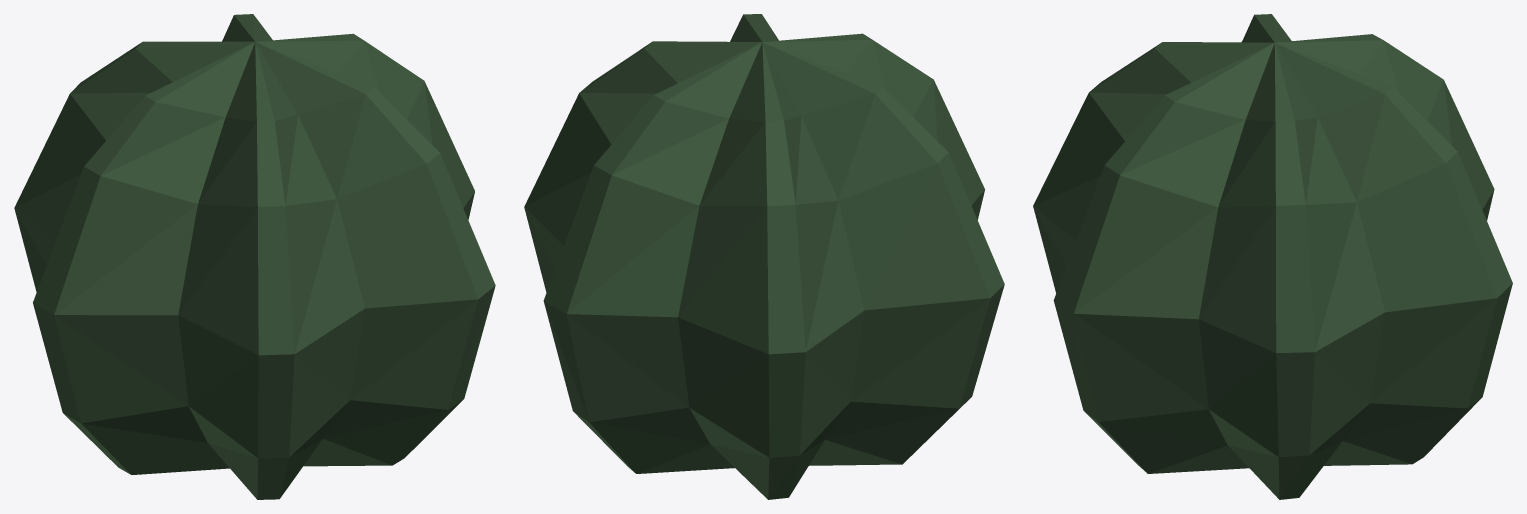
Rendered from Cactus04.fbx.
3 views of the same model, side by side, from view 1: azimuth 30°, elevation 25°; view 2: azimuth 150°, elevation 25°; view 3: azimuth 270°, elevation 25° (orthographic).
Parts seen in each view (by area): view 1: cactus5; view 2: cactus5; view 3: cactus5.
Part boxes in pixels (x1,y1,x2,y2): cactus5: (14, 14, 495, 499); cactus5: (524, 14, 1004, 499); cactus5: (1033, 14, 1512, 499).
Bounding box in the file's own units: 42.51 × 38.72 × 39.74.
